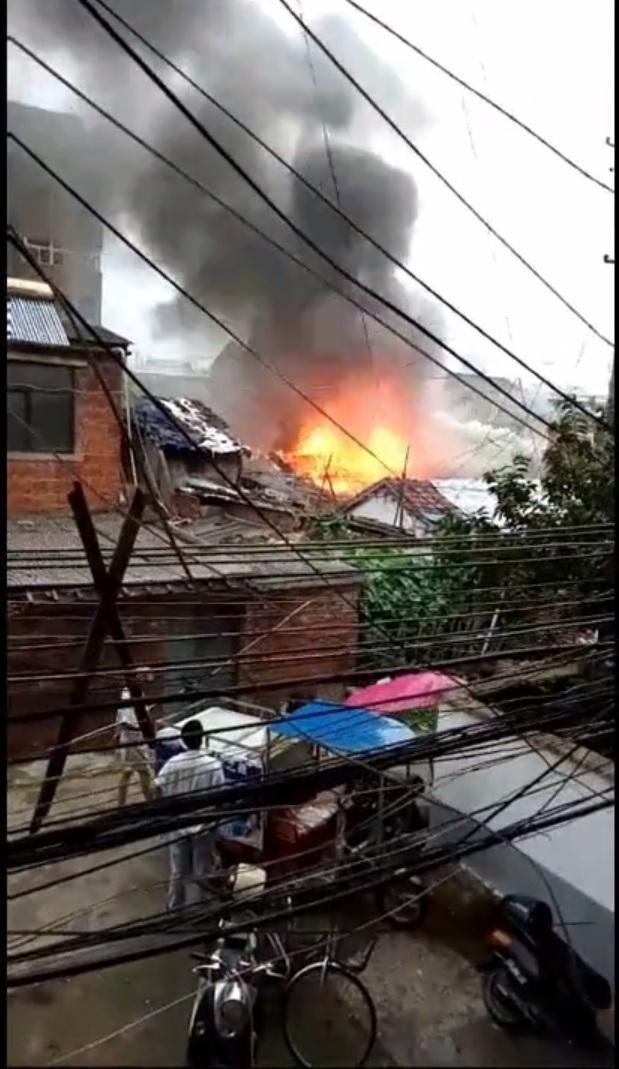fire: (285, 415, 409, 493)
